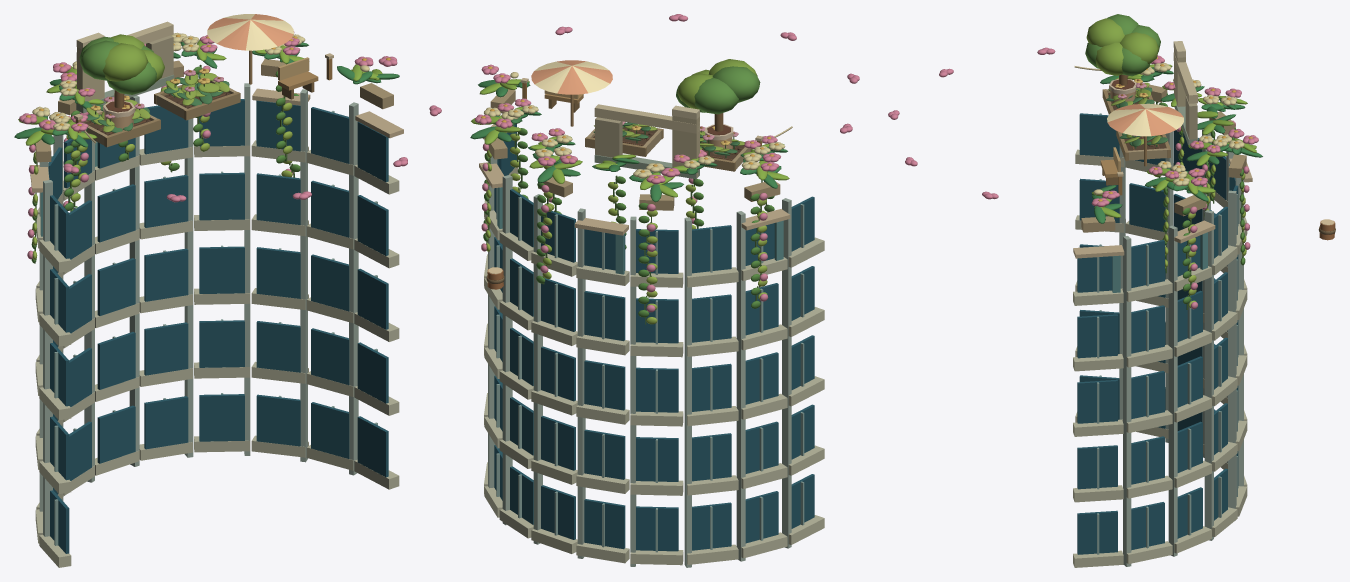
The model's file is detail.glb.
The picture shows the model from 3 angles, left to right: view 1: azimuth 30°, elevation 25°; view 2: azimuth 150°, elevation 25°; view 3: azimuth 270°, elevation 25°; orthographic projection. The views are drawn at different scales.
Parts seen in each view (by area): view 1: detail; view 2: detail; view 3: detail.
Part boxes in pixels (box(x1,y1,x2,y2)): detail: box(14, 14, 441, 567); detail: box(470, 14, 859, 567); detail: box(888, 14, 1335, 567).
Bounding box in the file's own units: 14.57 × 18.76 × 17.35.
